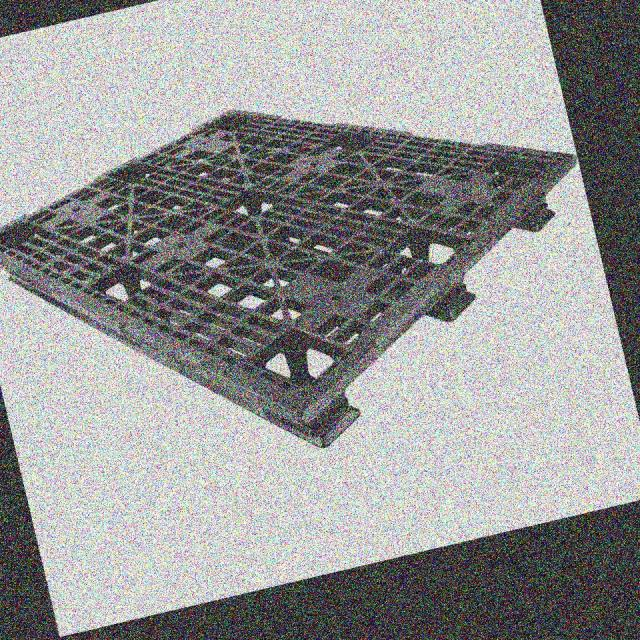non-igps: (0, 103, 581, 453)
